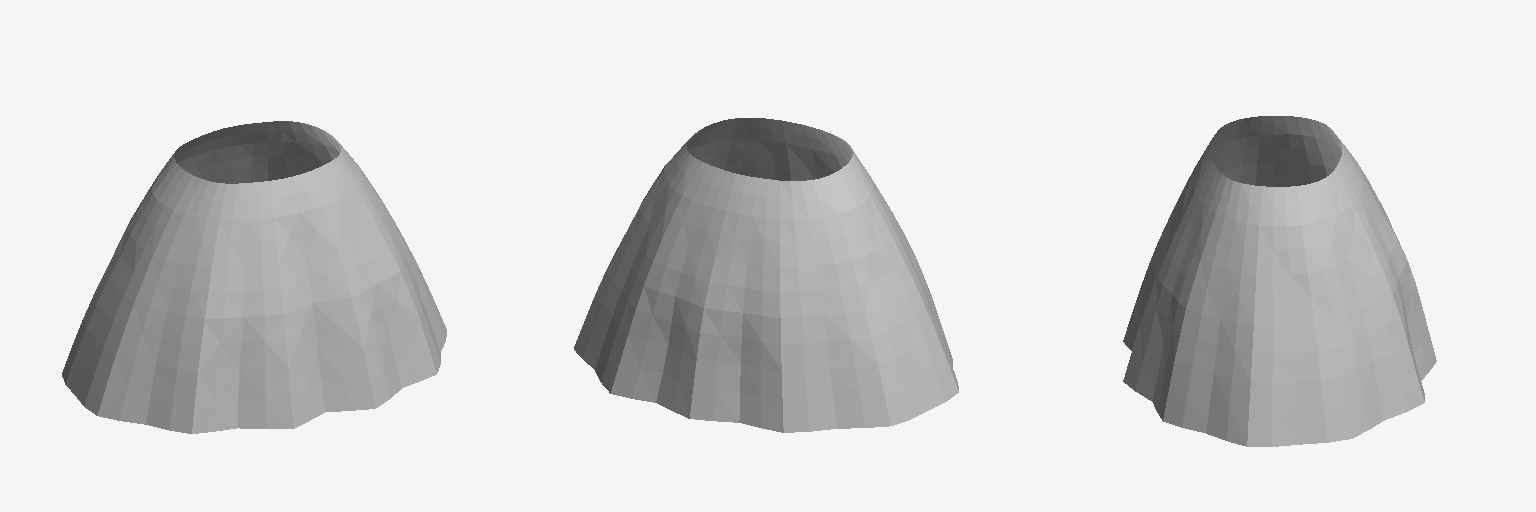
Rendered from 8_shirtshortfullwavy.obj.
3 renders of one model, left to right at view 1: azimuth 30°, elevation 25°; view 2: azimuth 150°, elevation 25°; view 3: azimuth 270°, elevation 25°, orthographic.
Visible parts, largest first — view 1: skirtfront, skirtback, skirtbackleft, skirtbackright; view 2: skirtback, skirtbackleft, skirtfront, skirtbackright; view 3: skirtfront, skirtbackright, skirtback, skirtbackleft.
Boxes of the visible parts, x1,y1,x2,y2 form: skirtfront: [75, 133, 446, 433]; skirtback: [175, 122, 267, 183]; skirtbackleft: [62, 141, 189, 394]; skirtbackright: [267, 121, 340, 180]; skirtback: [611, 162, 783, 432]; skirtbackleft: [779, 171, 927, 432]; skirtfront: [686, 118, 958, 410]; skirtbackright: [574, 141, 701, 393]; skirtfront: [1123, 116, 1299, 446]; skirtbackright: [1286, 170, 1424, 444]; skirtback: [1335, 135, 1436, 400]; skirtbackleft: [1286, 116, 1341, 185].
Size of the model in its own units: 24.77 by 14.25 by 19.21.